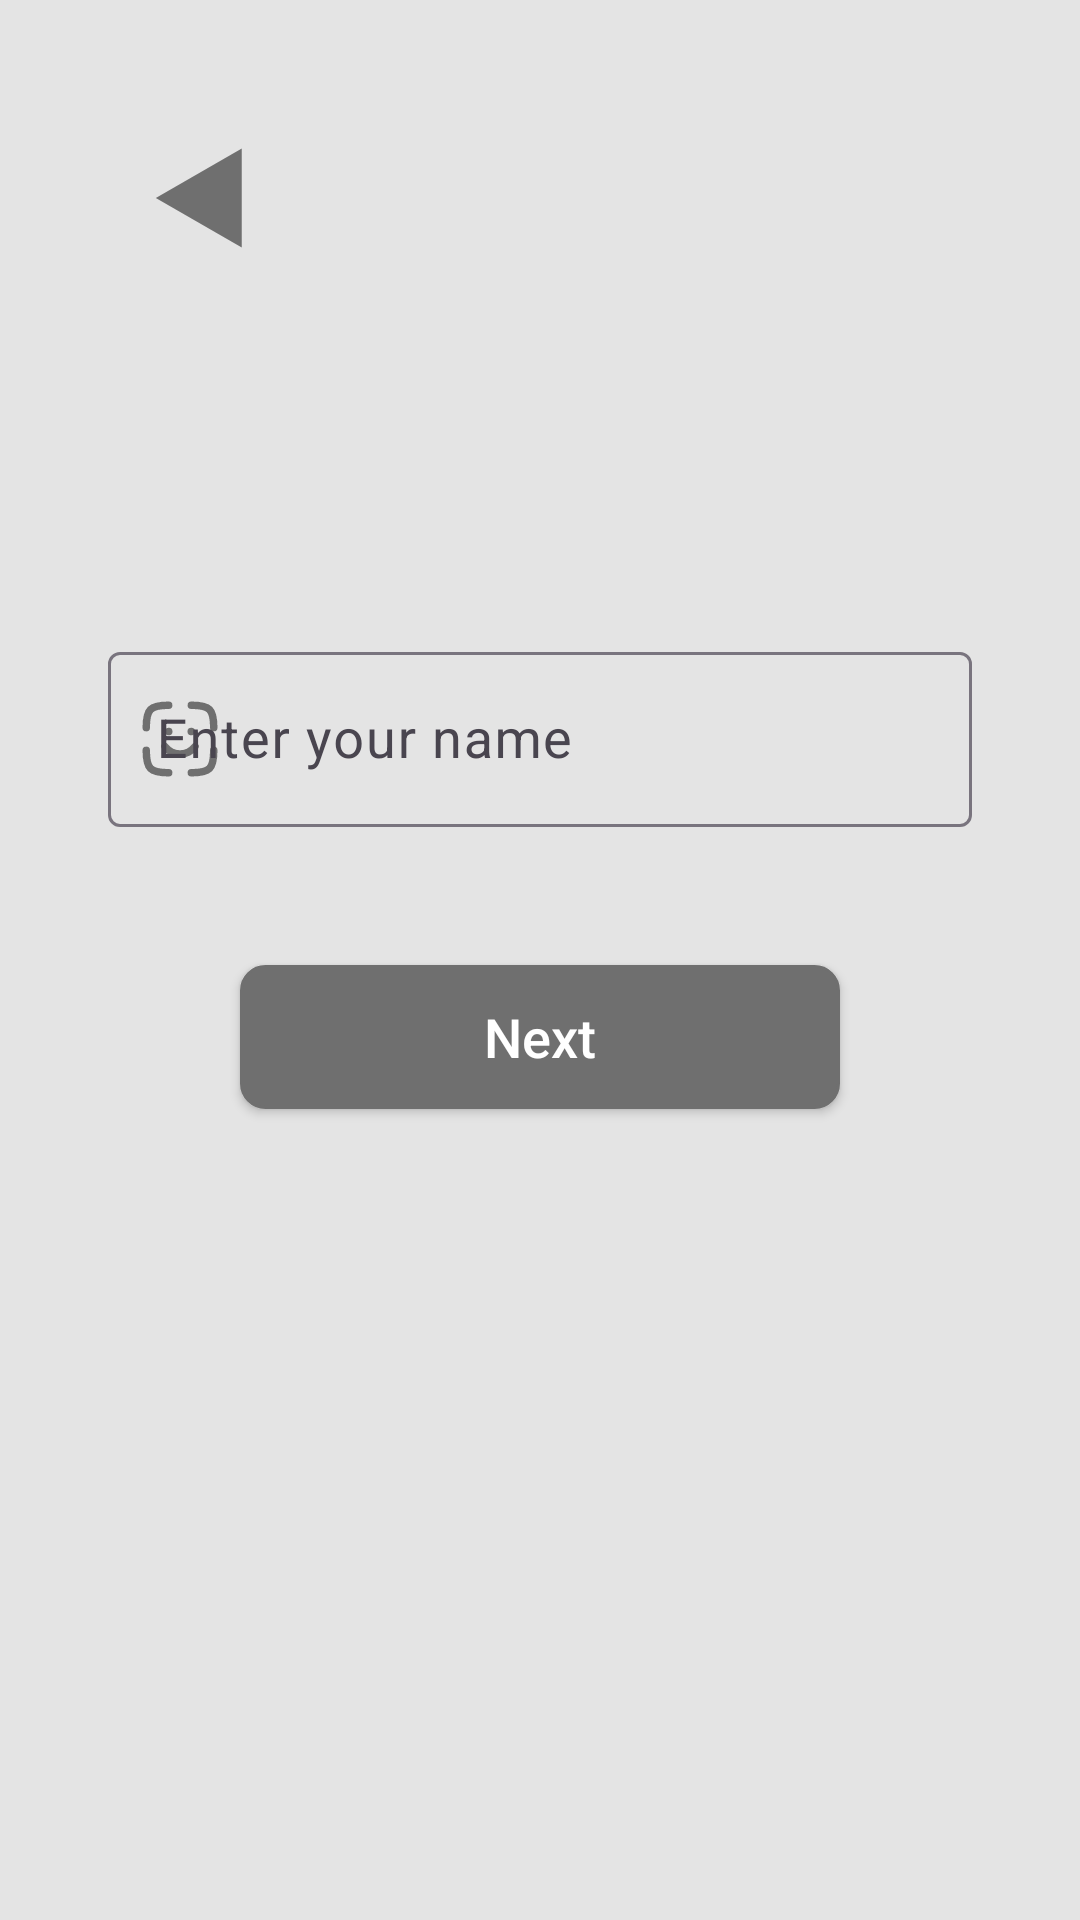

Screen size 1080x1920. Icon name, then its center in pixels as (x=x, y=y):
back: (x=199, y=198)
